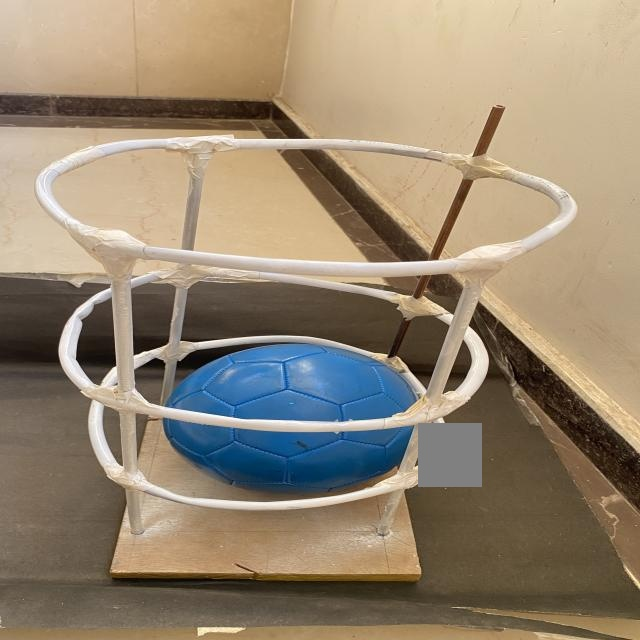blue_ball: (162, 334, 428, 492)
silo: (18, 110, 605, 617)
